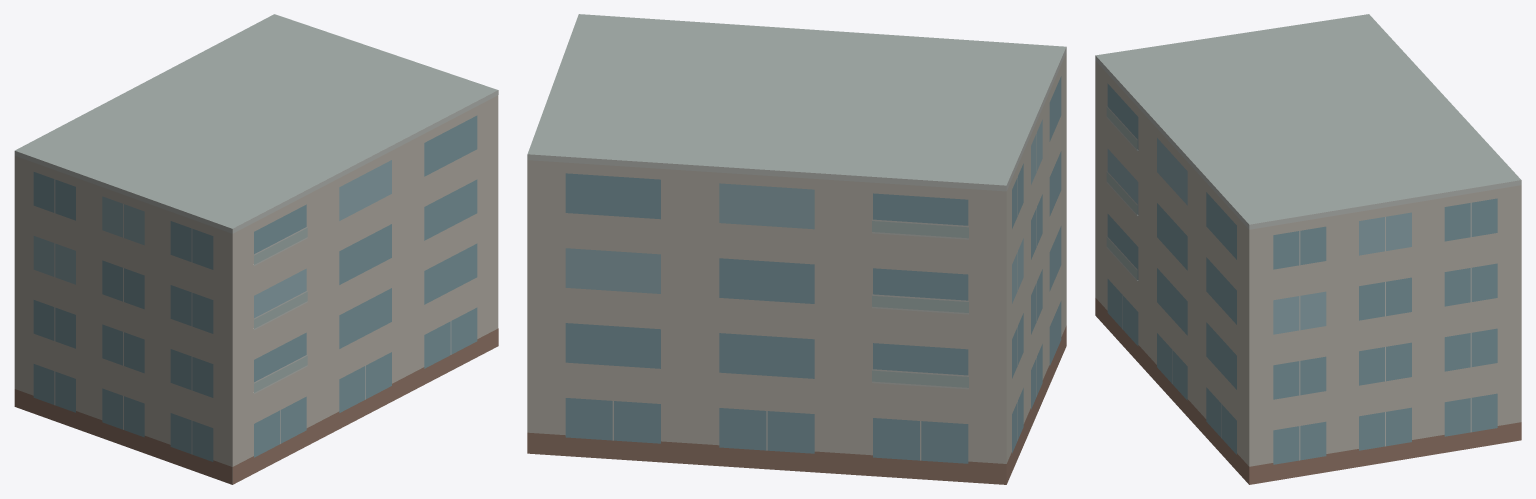
The model's file is survey-upis-32843949.glb.
The picture shows the model from 3 angles, left to right: view 1: azimuth 30°, elevation 25°; view 2: azimuth 150°, elevation 25°; view 3: azimuth 270°, elevation 25°; orthographic projection. The views are drawn at different scales.
Visible parts, largest first — view 1: survey-upis-32843949.tmp; view 2: survey-upis-32843949.tmp; view 3: survey-upis-32843949.tmp.
Boxes of the visible parts, left/top/right/bottom form: survey-upis-32843949.tmp: left=14, top=14, right=498, bottom=484; survey-upis-32843949.tmp: left=527, top=14, right=1066, bottom=484; survey-upis-32843949.tmp: left=1095, top=14, right=1521, bottom=484.
Size of the model in its own units: 21.72 by 12.5 by 18.56.
